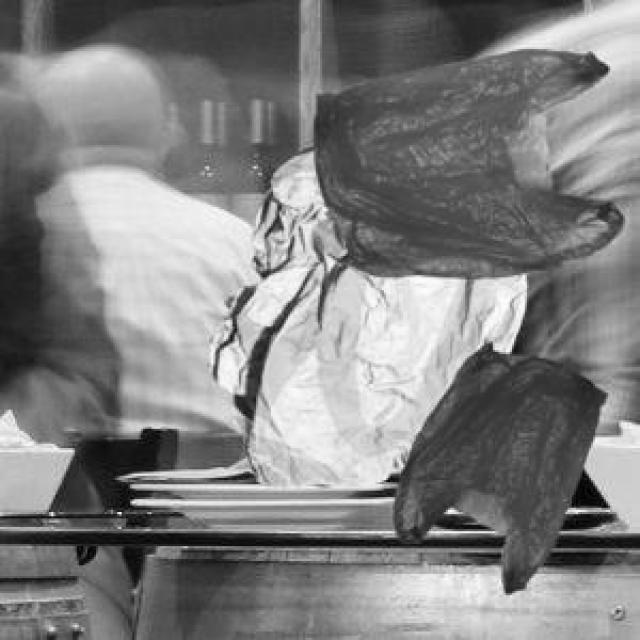paper: (205, 141, 523, 484)
